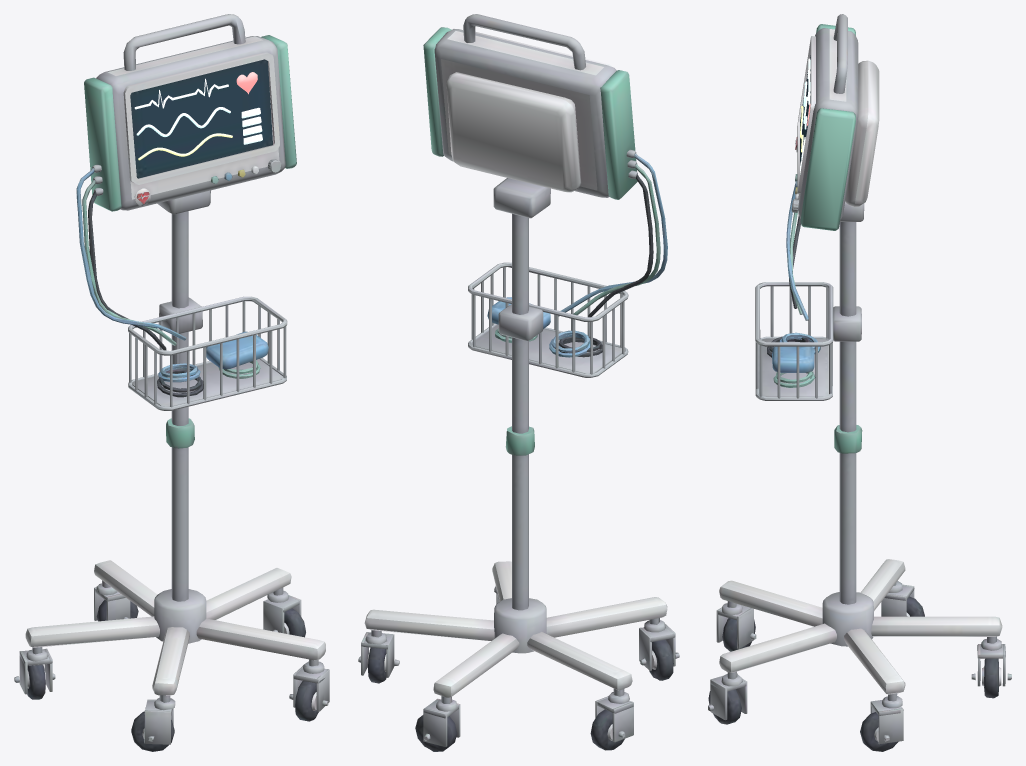
The model's file is medical-patient-monitor.glb.
3 views of the same model, side by side, from view 1: azimuth 30°, elevation 25°; view 2: azimuth 150°, elevation 25°; view 3: azimuth 270°, elevation 25° (orthographic). The views are drawn at different scales.
Parts seen in each view (by area): view 1: patient-monitor_body, patient-monitor_screen_glow; view 2: patient-monitor_body; view 3: patient-monitor_body, patient-monitor_screen_glow.
Boxes of the visible parts, x1,y1,x2,y2 form: patient-monitor_body: (14,14,329,751); patient-monitor_screen_glow: (134,72,262,160); patient-monitor_body: (358,14,679,751); patient-monitor_body: (708,14,1011,751); patient-monitor_screen_glow: (800,58,810,174).
Bounding box in the file's own units: 0.6064 × 1.4 × 0.5891.
5 materials, 1 textured.
